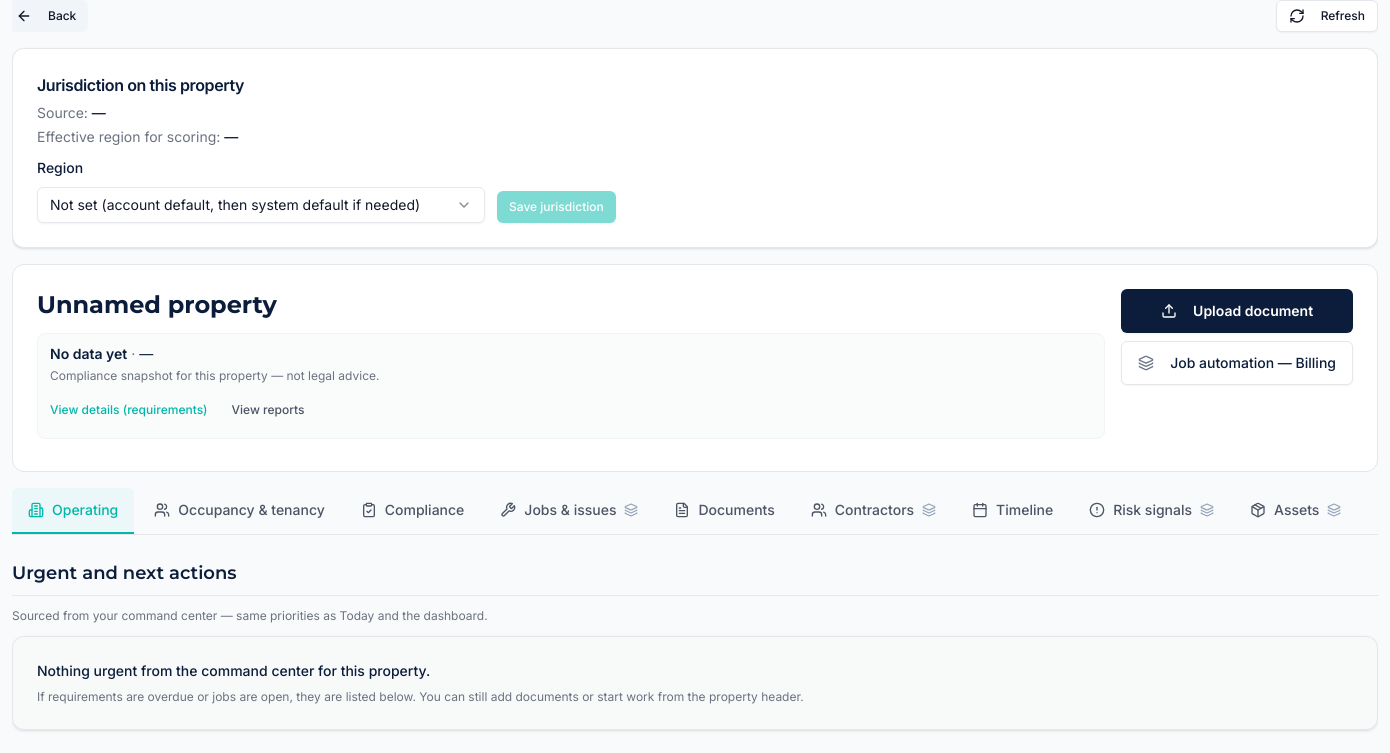
PropertyDetailPage compliance action surfaces › renders guided CTA on compliance tab and full matrix for multi-mode requirement
This screenshot has width=1390, height=753.
Later steps or results of the test are not shown.
Click the button "Compliance".
click(413, 511)  # box [345,488,480,534]
(page scrolled)
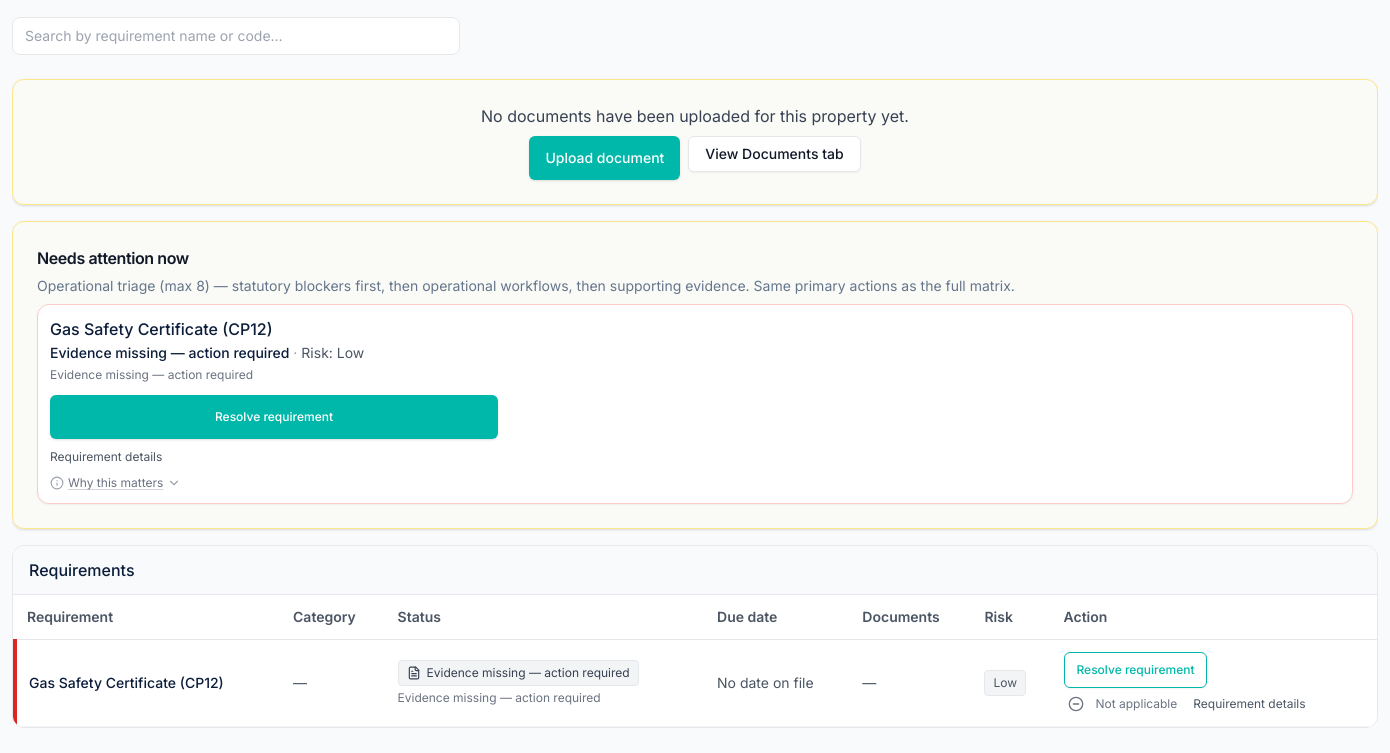
Check: the button with test id "compliance-urgent-guided-req-guided" reads "Resolve requirement"
Click the button with test id "compliance-urgent-guided-req-guided".
click(274, 417)  # box [50,395,498,439]
Check: the button with test id "compliance-matrix-action-req-guided" reads "Resolve requirement", box [1064,652,1208,688]
Check: the cell with test id "compliance-matrix-action-req-guided" is shown, box [1052,640,1377,727]
